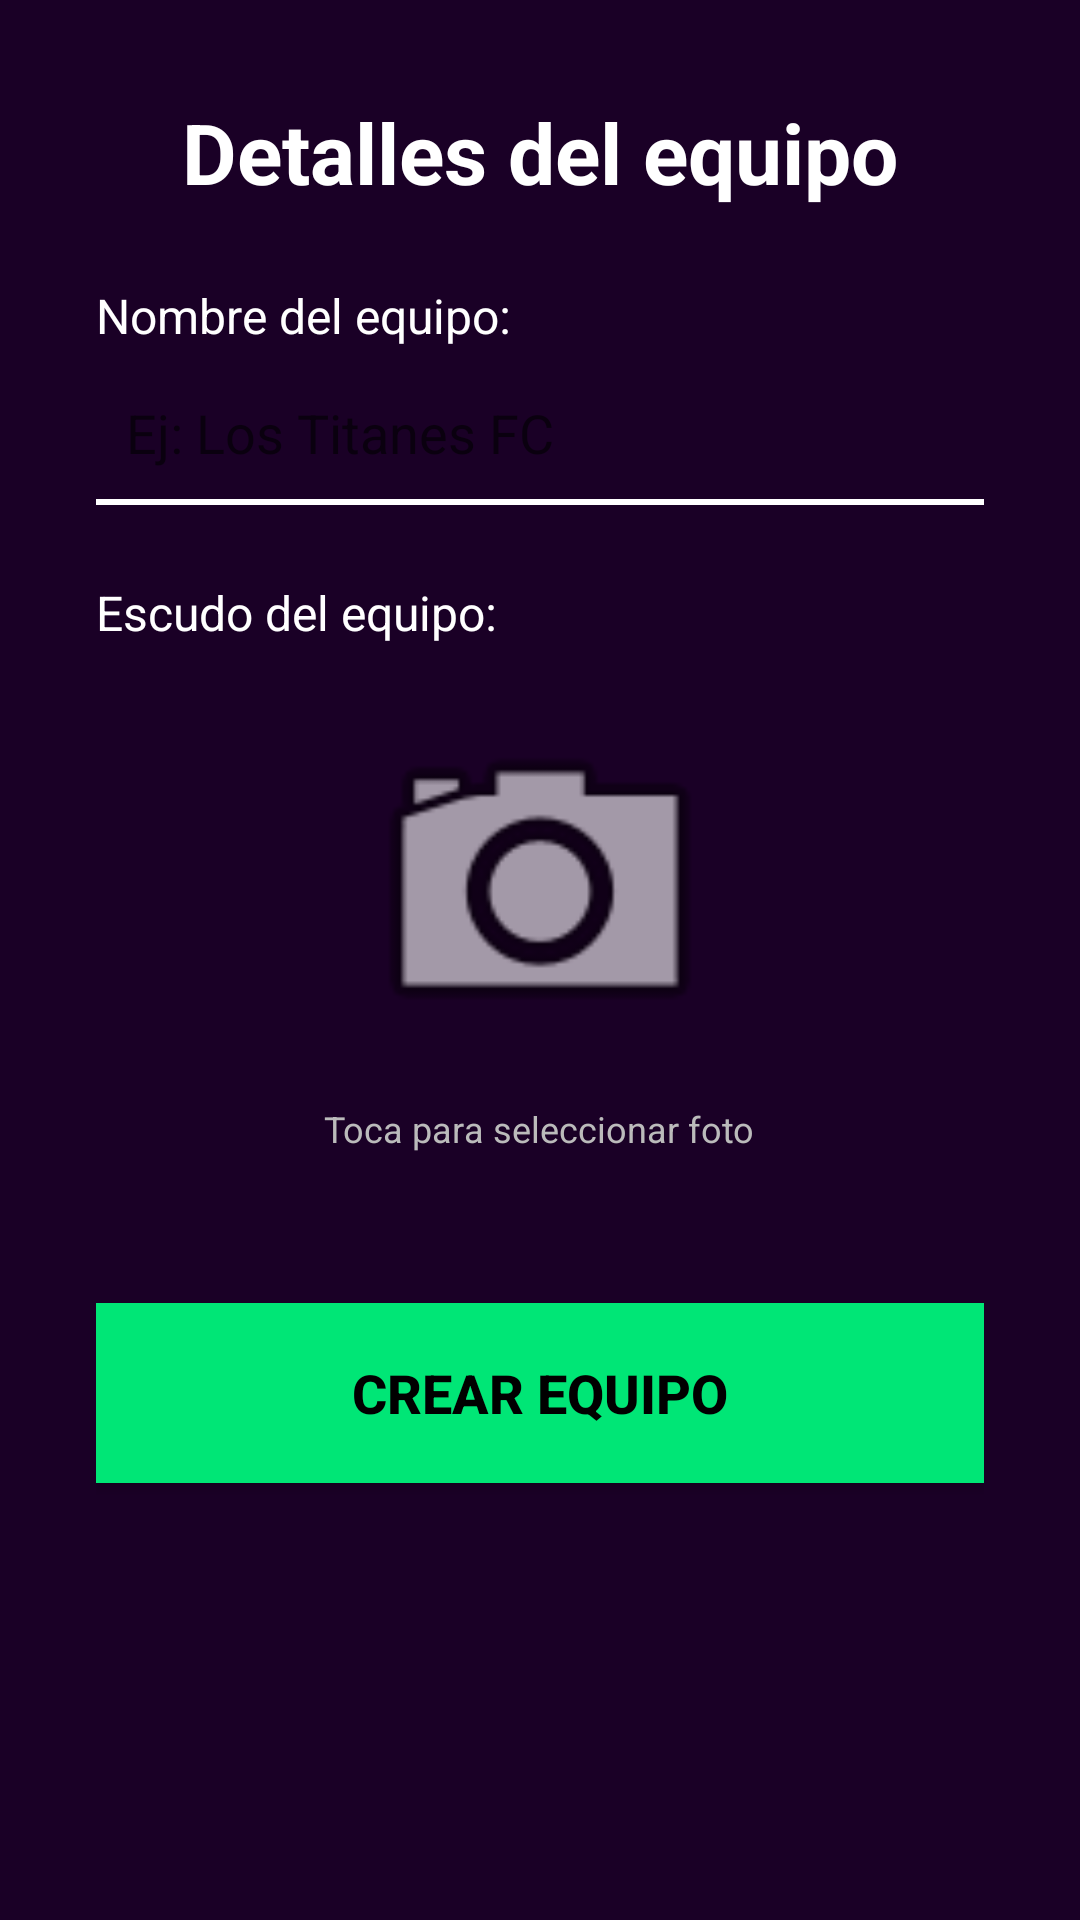

Point at icon controls on the screen. Image size 1080x1920, points as (x,y).
camera: (540,879)
